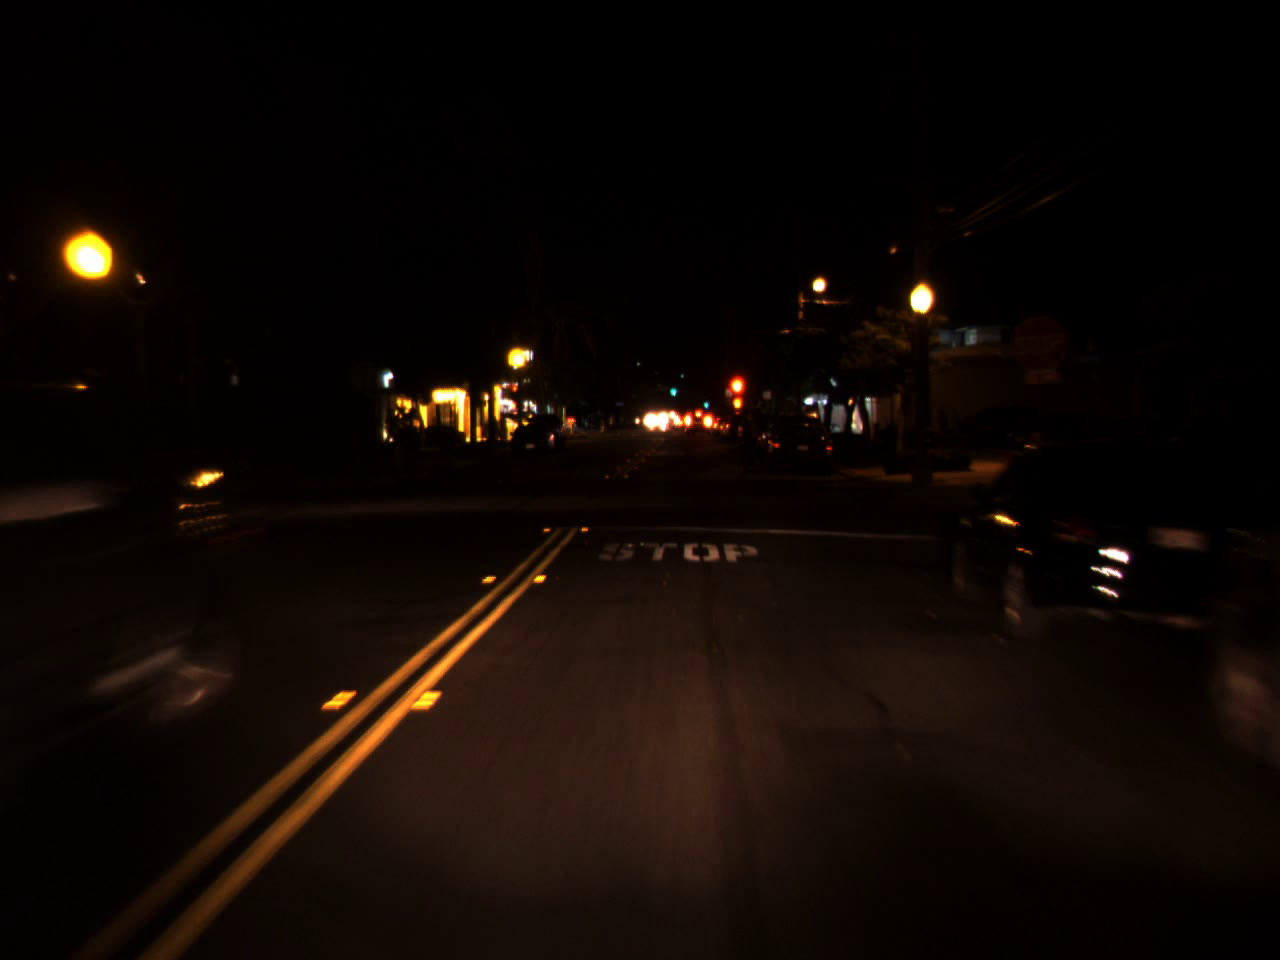go: (669, 381, 678, 396), (700, 394, 709, 409)
stop: (726, 372, 747, 417), (509, 381, 521, 402)
